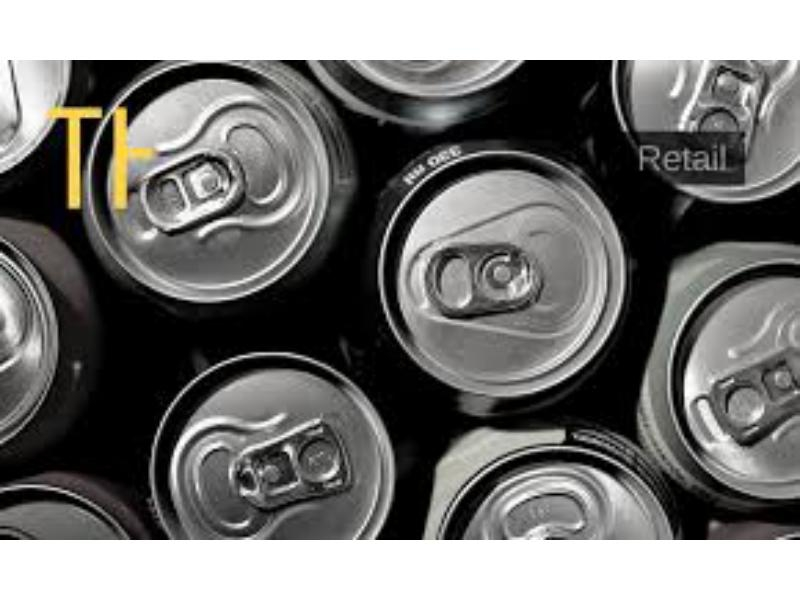can: (361, 141, 624, 410), (84, 62, 328, 303), (629, 246, 797, 512), (151, 357, 392, 534), (417, 426, 684, 536), (616, 61, 797, 199), (2, 218, 99, 467), (308, 62, 541, 125), (0, 482, 130, 534)
